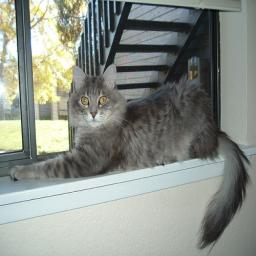catnose: (89, 107, 98, 119)
